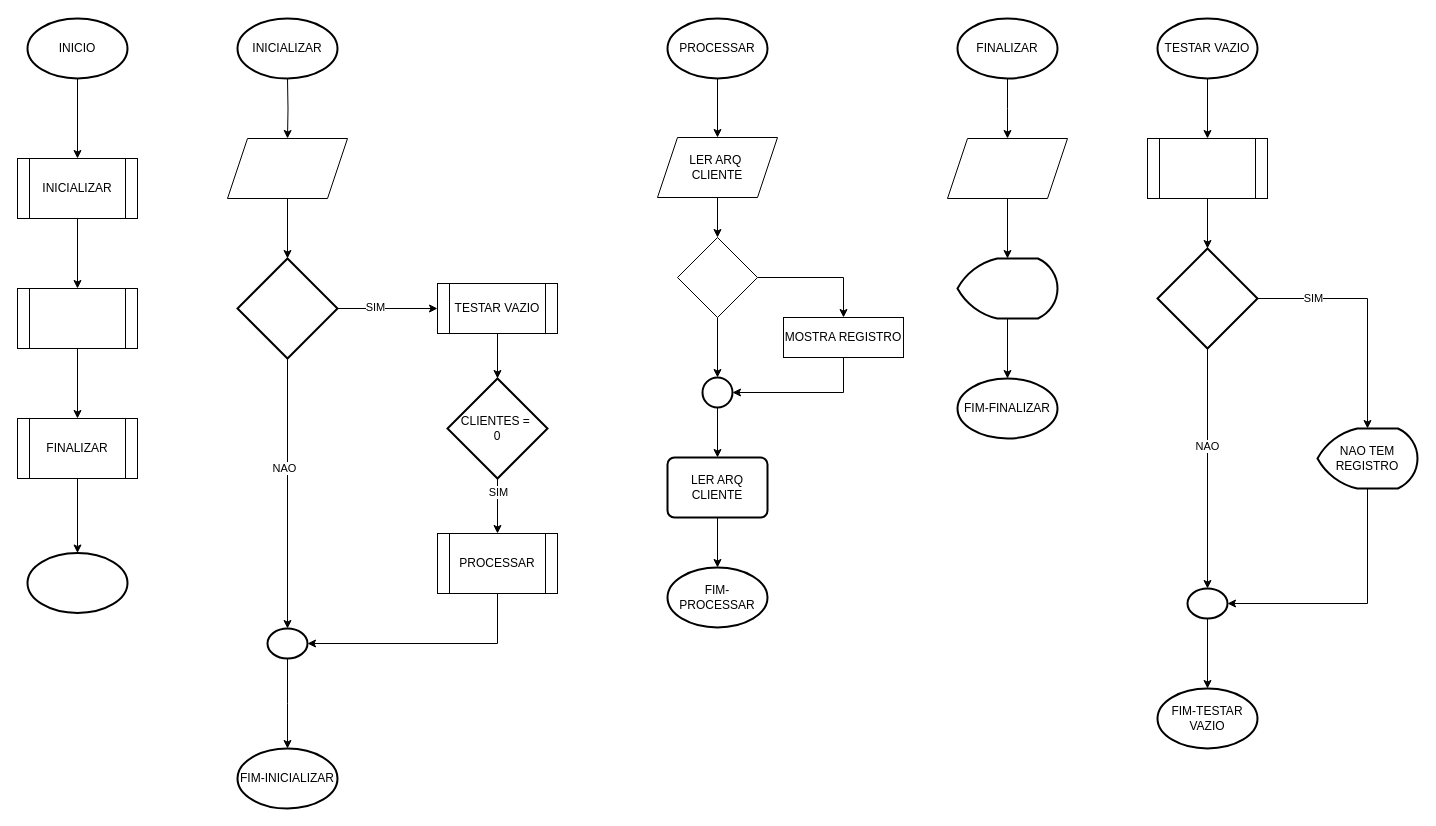
The diagram is 1436 pixels wide and 826 high, and some of its shapes have lost their labels. The shapes that lost their labels are listed below. From the top down, each one's centre as x and y in pixels, then its label:
At point 287,168: "ABRIR CLIENTES".
At point 1007,168: "FECHA CLIENTES".
At point 1207,168: "LER CLIENTE".
At point 717,277: "BUSCA = ID".
At point 1007,288: "FIM DA INCLUSAO".
At point 77,318: "PROCESSAR ATE EOF".
At point 287,308: "CLIENTES EXISTE".
At point 1207,298: "ARQ CLIENTE VAZIO".
At point 77,583: "FIM".
